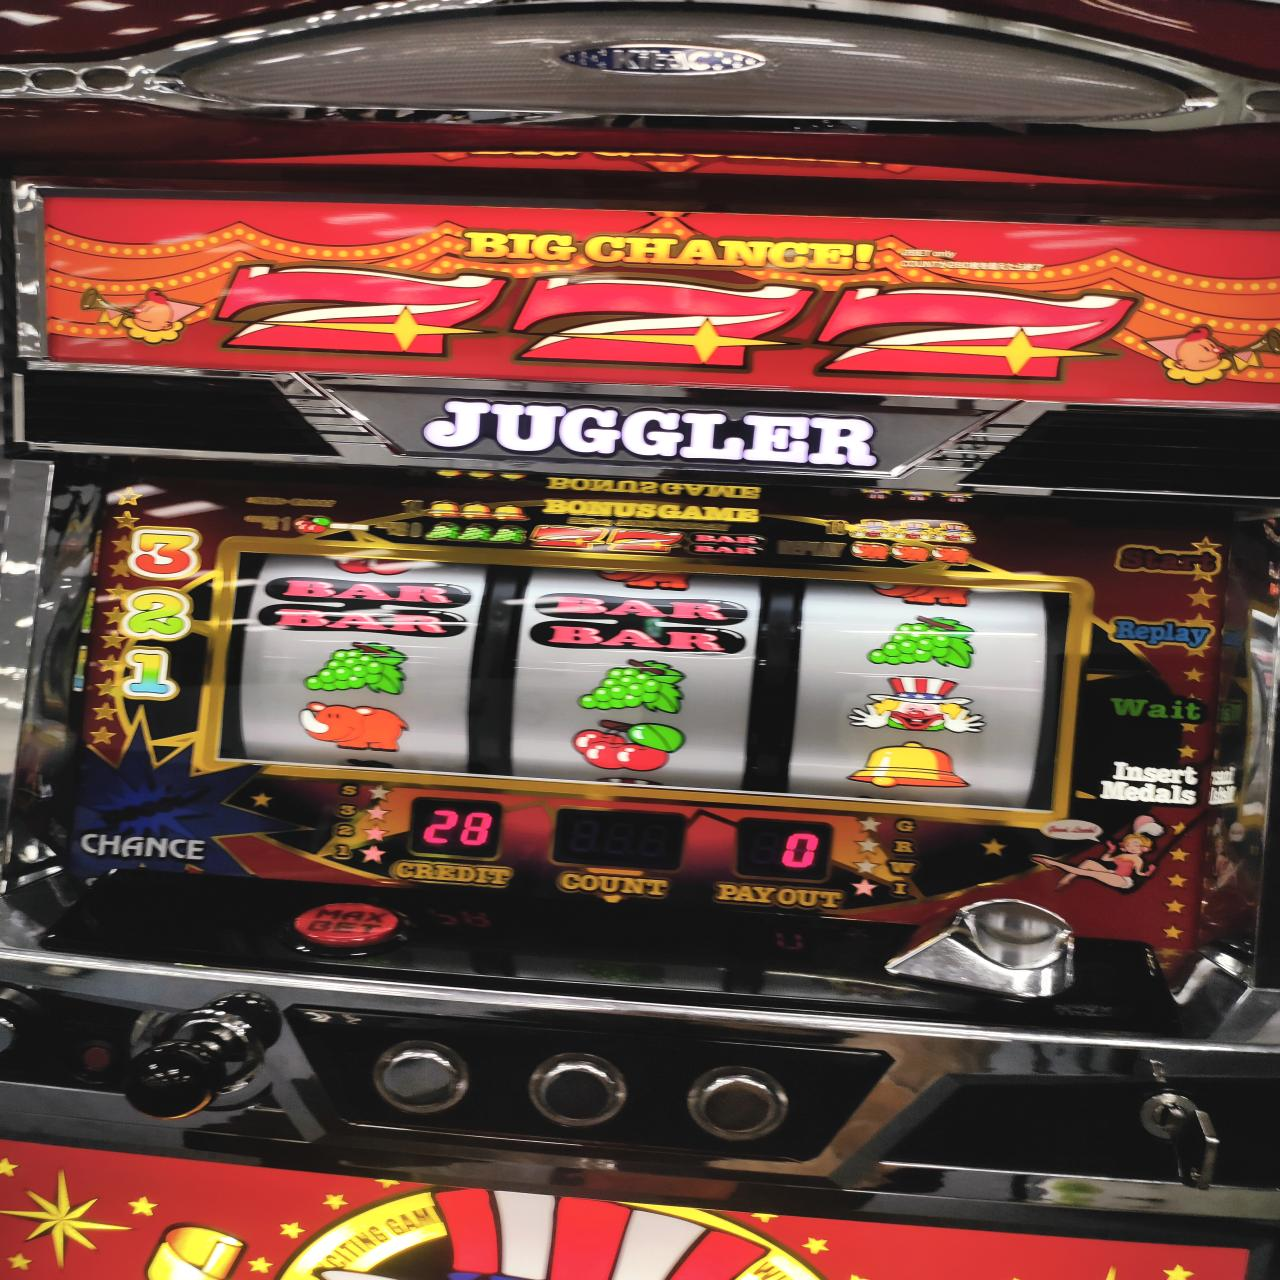8: (297, 699, 409, 754)
Display: (227, 544, 1063, 813)
bar: (526, 591, 747, 654), (264, 577, 471, 638)
bell: (844, 740, 969, 792)
cherry: (564, 717, 682, 774)
clown: (850, 674, 989, 735)
grape: (863, 612, 978, 669), (572, 658, 688, 713), (301, 642, 409, 694)
